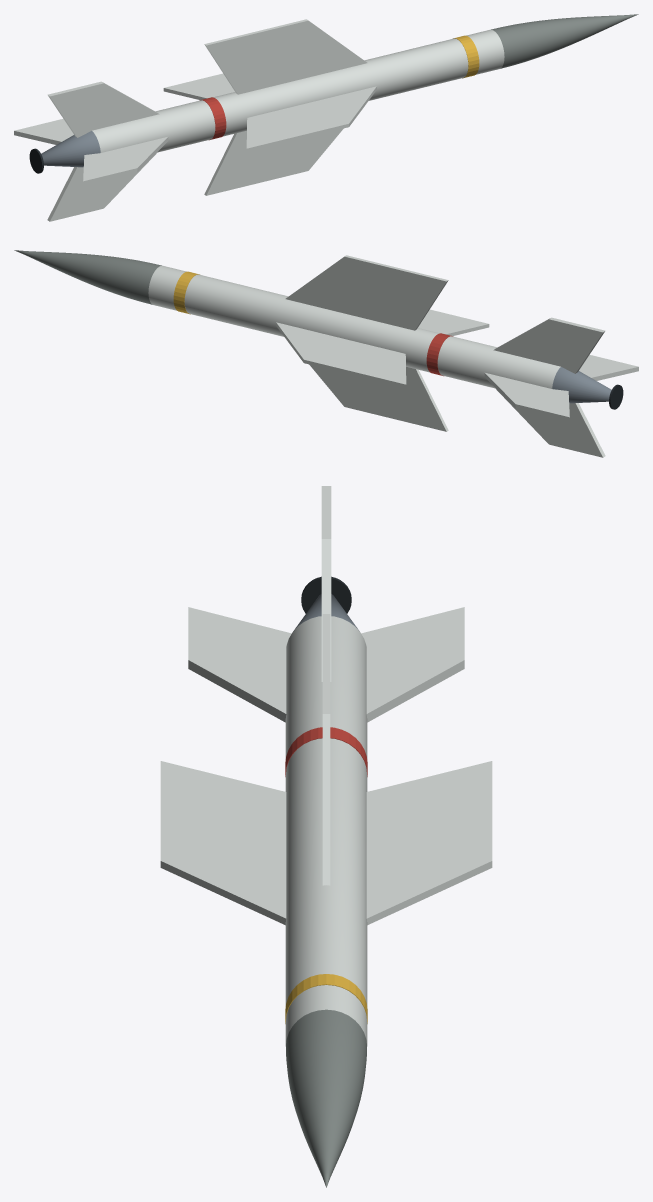
The model's file is redut_family.glb.
3 renders of one model, top to bottom at view 1: azimuth 30°, elevation 25°; view 2: azimuth 150°, elevation 25°; view 3: azimuth 270°, elevation 25°, orthographic. The views are drawn at different scales.
Parts seen in each view (by area): view 1: redut_family; view 2: redut_family; view 3: redut_family.
Boxes of the visible parts, box(x1,y1,x2,y2) form: redut_family: box(14, 14, 638, 221); redut_family: box(14, 250, 638, 457); redut_family: box(160, 486, 492, 1187).
Size of the model in its own units: 10 by 2.38 by 2.38.
